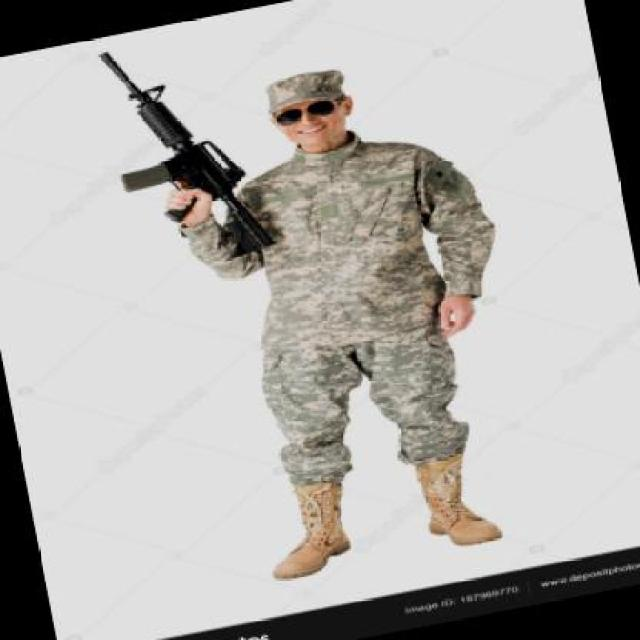MIL_Pax: (135, 36, 556, 590)
